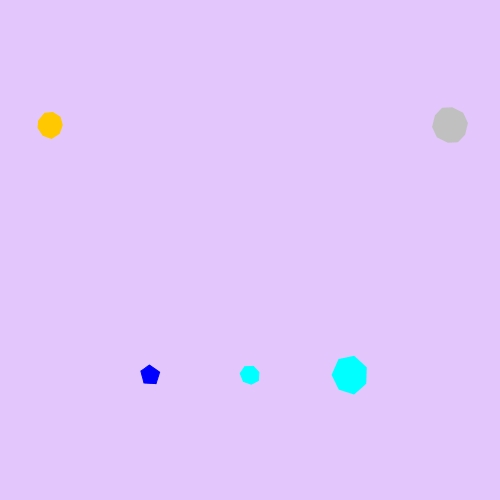decagon: (427, 104, 473, 146)
heptagon: (328, 354, 373, 397), (236, 361, 265, 389)
nonagon: (33, 108, 68, 142)
pentagon: (136, 361, 164, 389)
